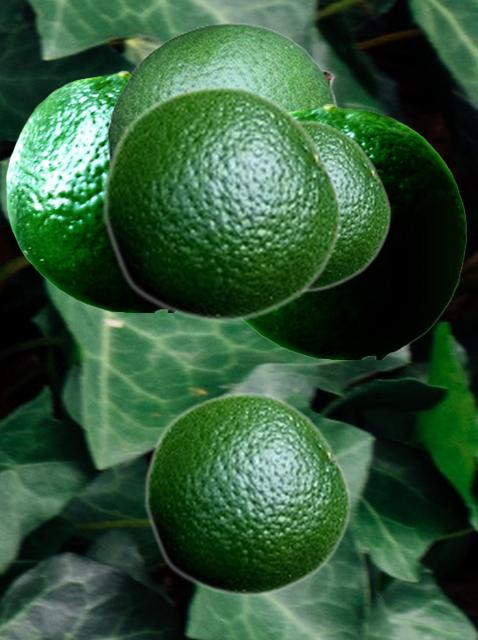calamansi: (101, 84, 342, 323), (242, 103, 465, 358), (143, 391, 351, 597), (6, 70, 162, 311), (107, 22, 339, 163), (298, 119, 391, 292)
